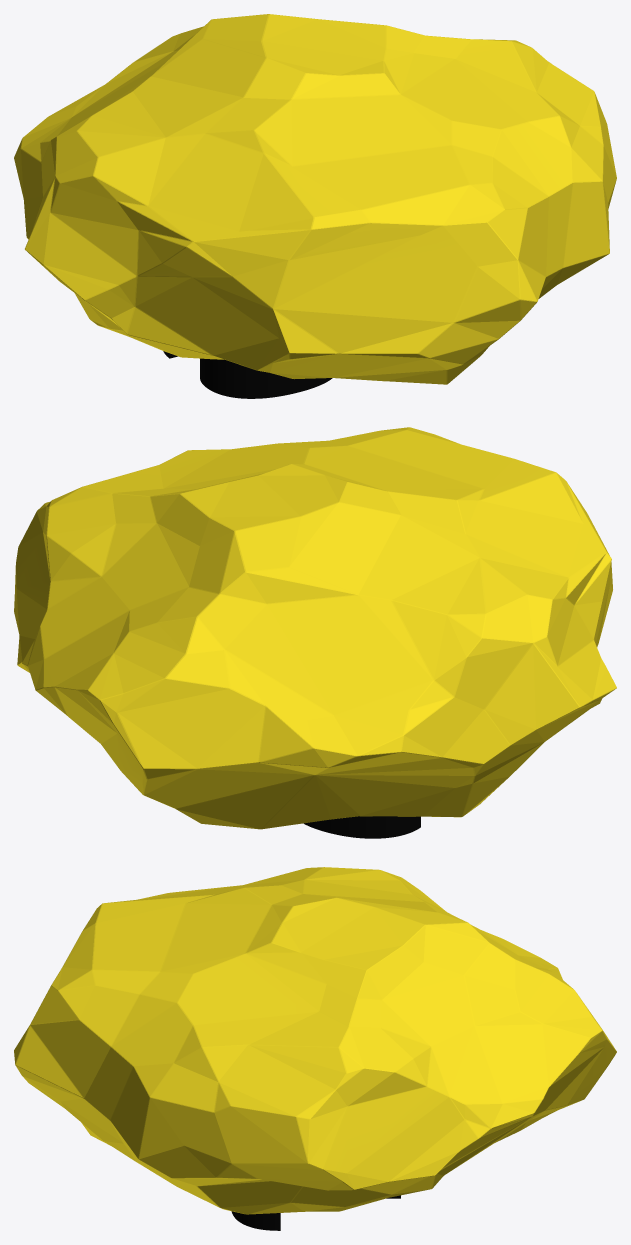
3 renders of one model, top to bottom at view 1: azimuth 30°, elevation 25°; view 2: azimuth 150°, elevation 25°; view 3: azimuth 270°, elevation 25°, orthographic. The views are drawn at different scales.
Parts seen in each view (by area): view 1: Cube.007, Curve; view 2: Cube.007, Curve; view 3: Cube.007, Curve.
Part boxes in pixels (box(x1,y1,x2,y2)): Cube.007: box(14, 14, 616, 384); Curve: box(163, 351, 332, 398); Cube.007: box(14, 427, 616, 829); Curve: box(303, 816, 420, 838); Cube.007: box(14, 867, 616, 1214); Curve: box(231, 1195, 400, 1230).
Size of the model in its own units: 2 by 0.97 by 2.04.
